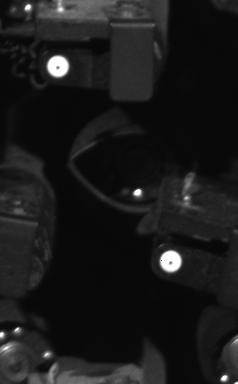fiber: (44, 52, 74, 84), (155, 246, 186, 276)
